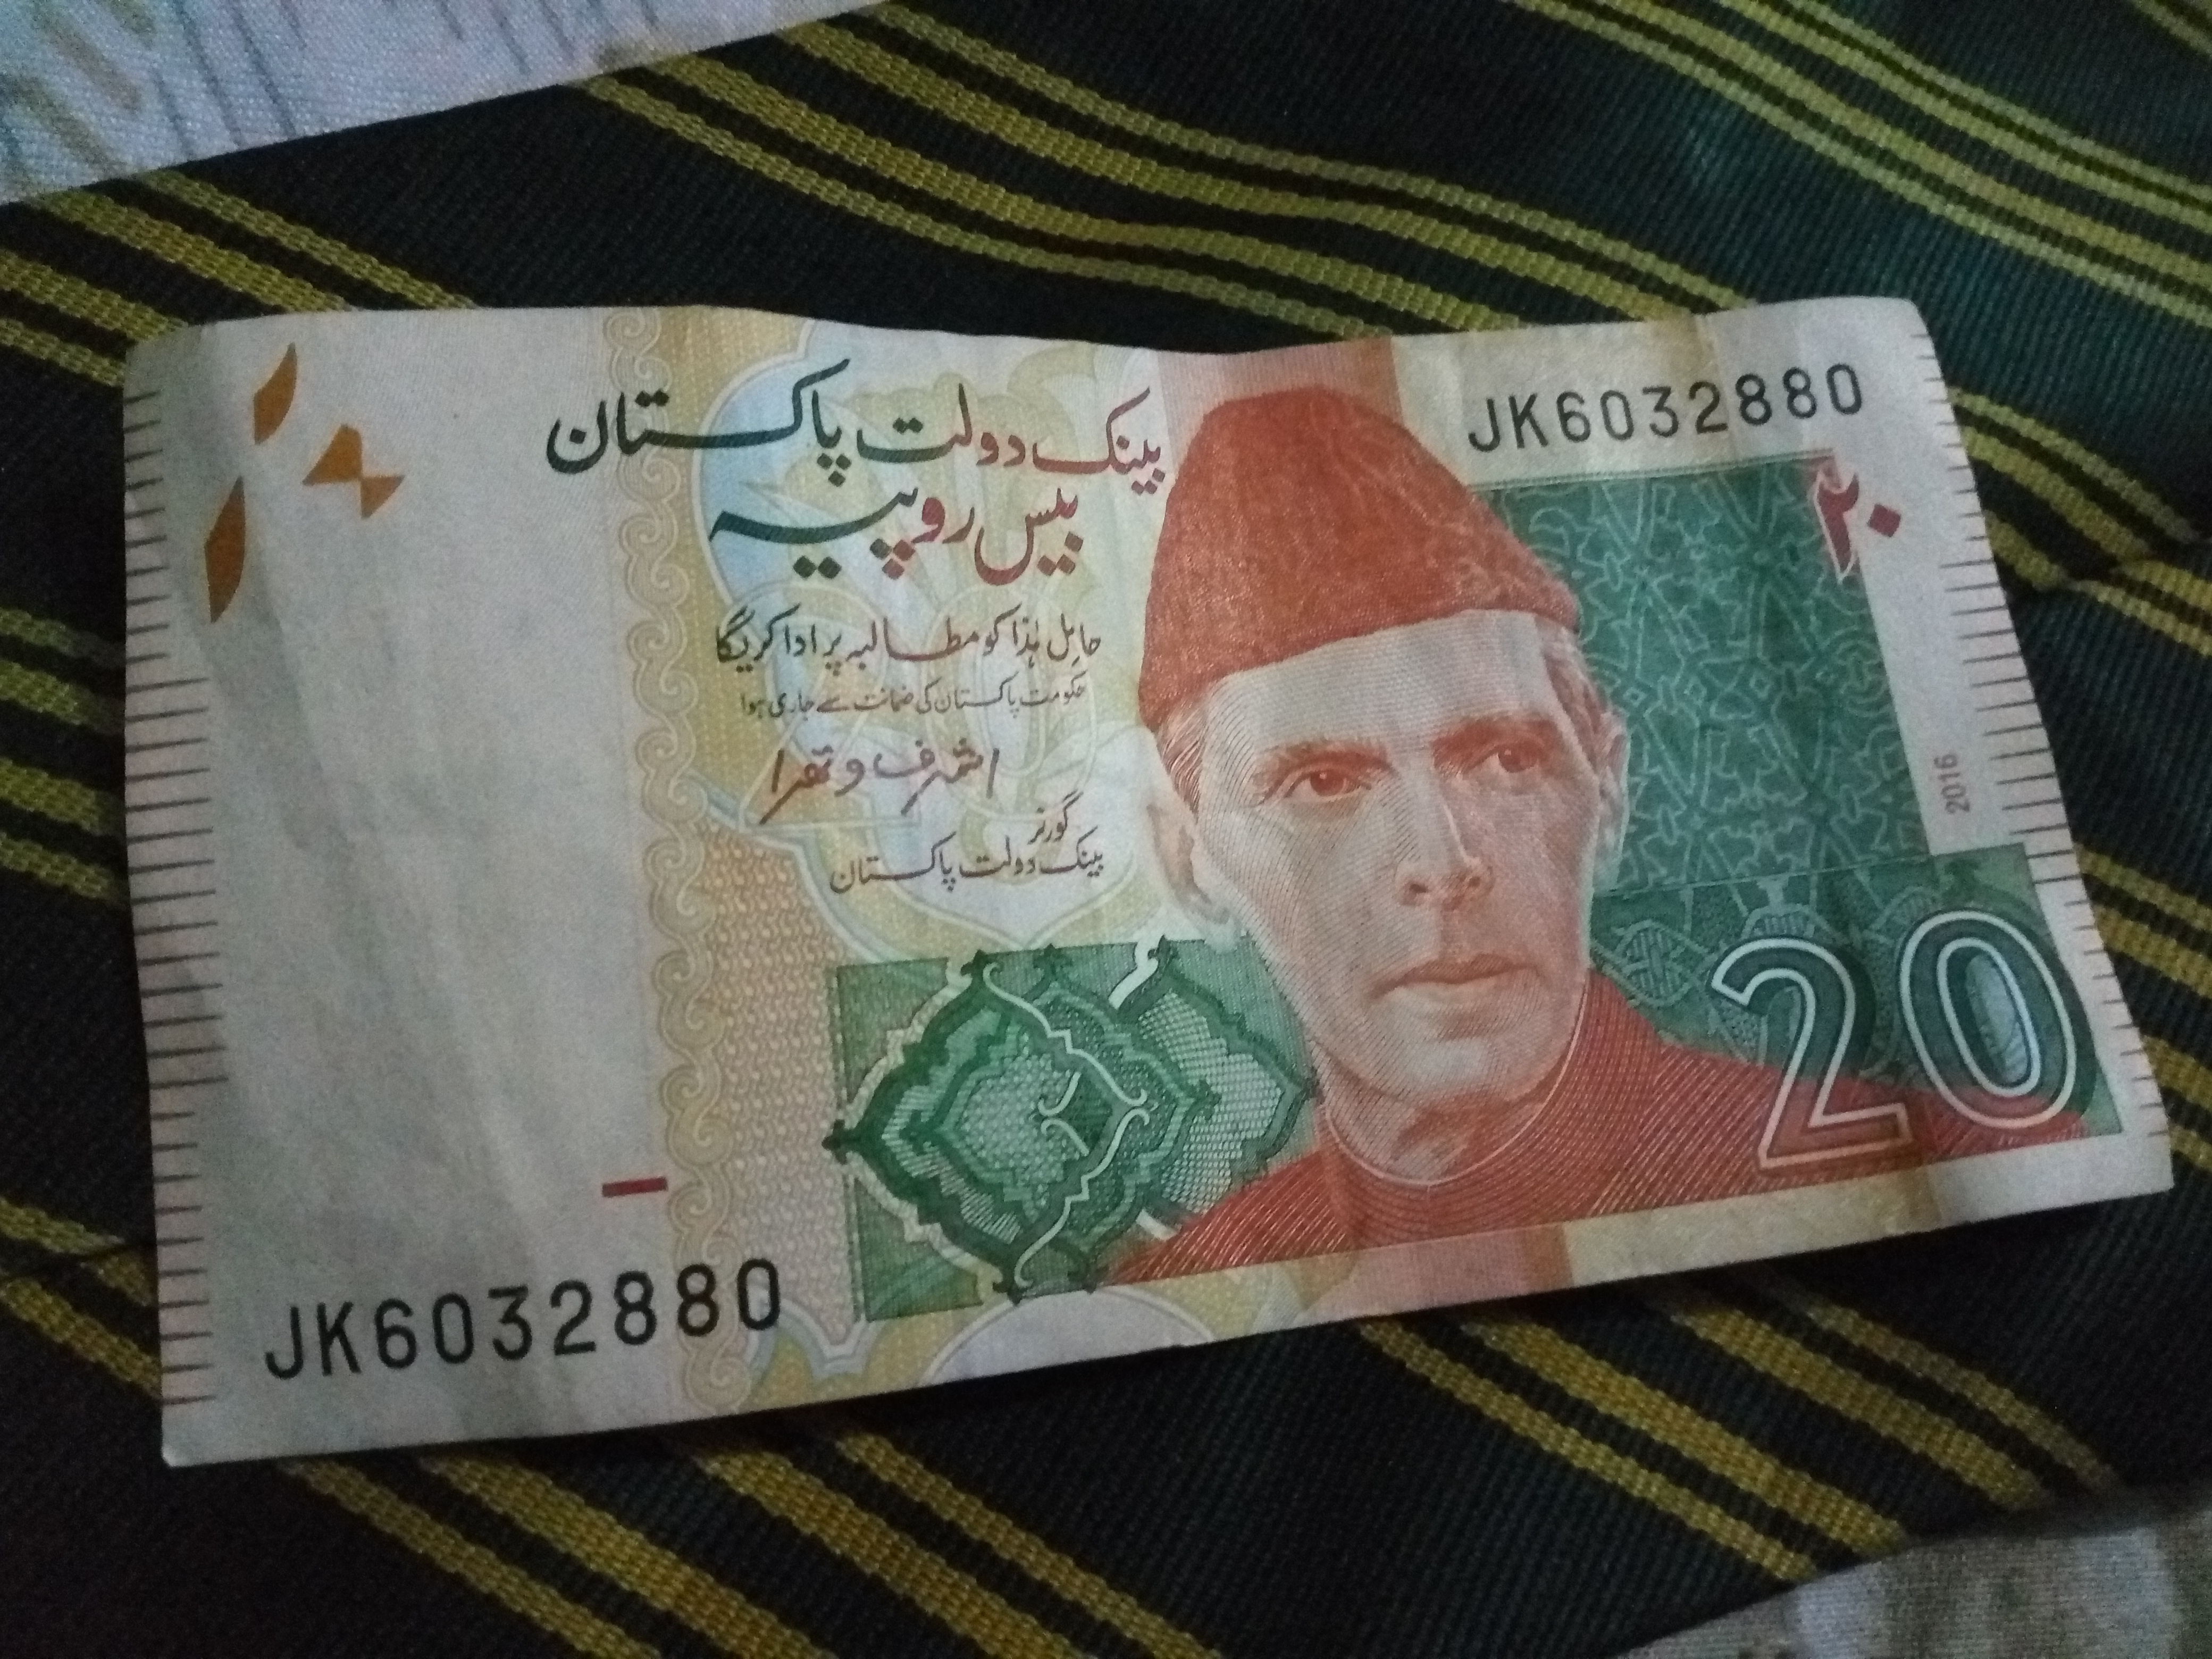20 rupee: (92, 244, 2141, 1549)
